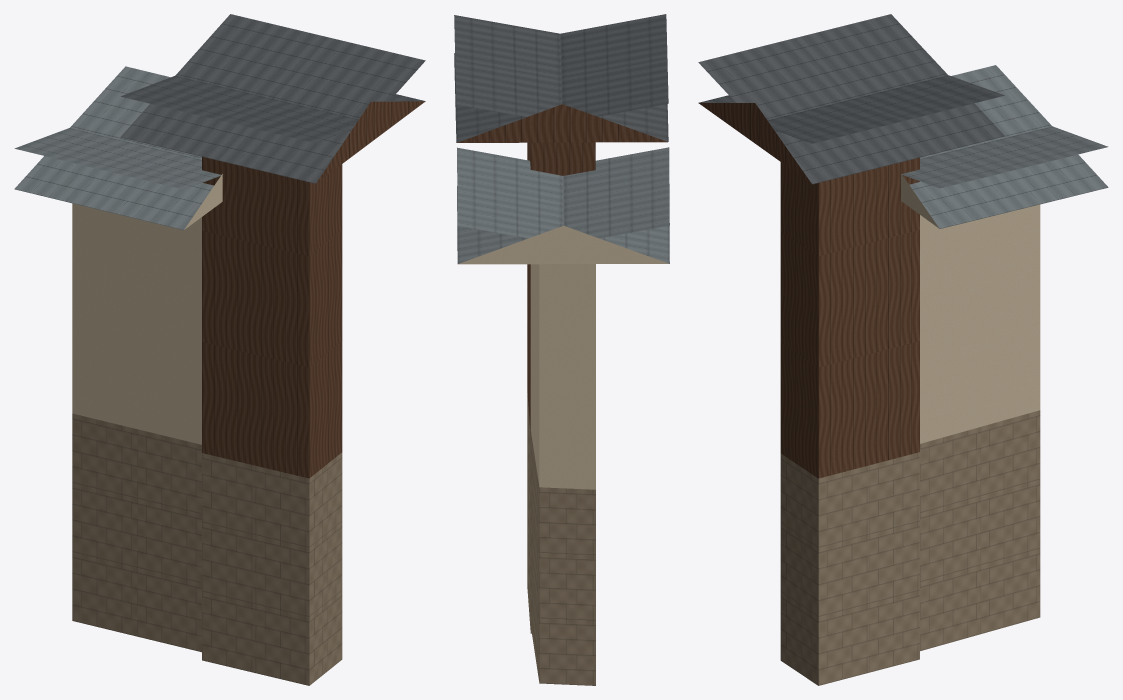
The model's file is bld_c-14_26_479.gltf.
3 renders of one model, left to right at view 1: azimuth 30°, elevation 25°; view 2: azimuth 150°, elevation 25°; view 3: azimuth 270°, elevation 25°, orthographic. The views are drawn at different scales.
Visible parts, largest first — view 1: bld_c-14_26_479; view 2: bld_c-14_26_479; view 3: bld_c-14_26_479.
Boxes of the visible parts, left/top/right/bottom form: bld_c-14_26_479: left=14, top=14, right=425, bottom=685; bld_c-14_26_479: left=454, top=14, right=669, bottom=685; bld_c-14_26_479: left=698, top=14, right=1108, bottom=685.
Bounding box in the file's own units: 8.23 × 14.3 × 9.16.
7 materials, 7 textured.
